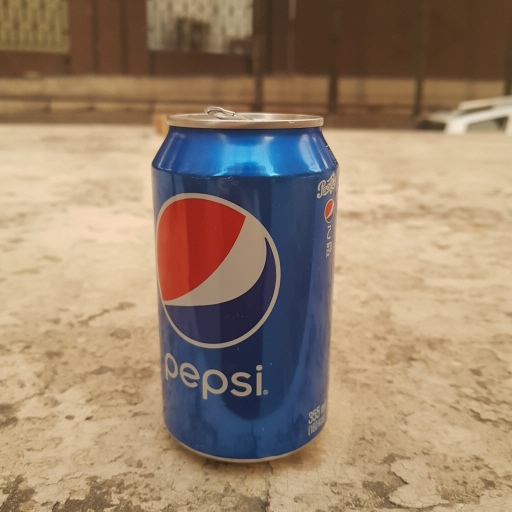Metal_0: (148, 104, 337, 464)
